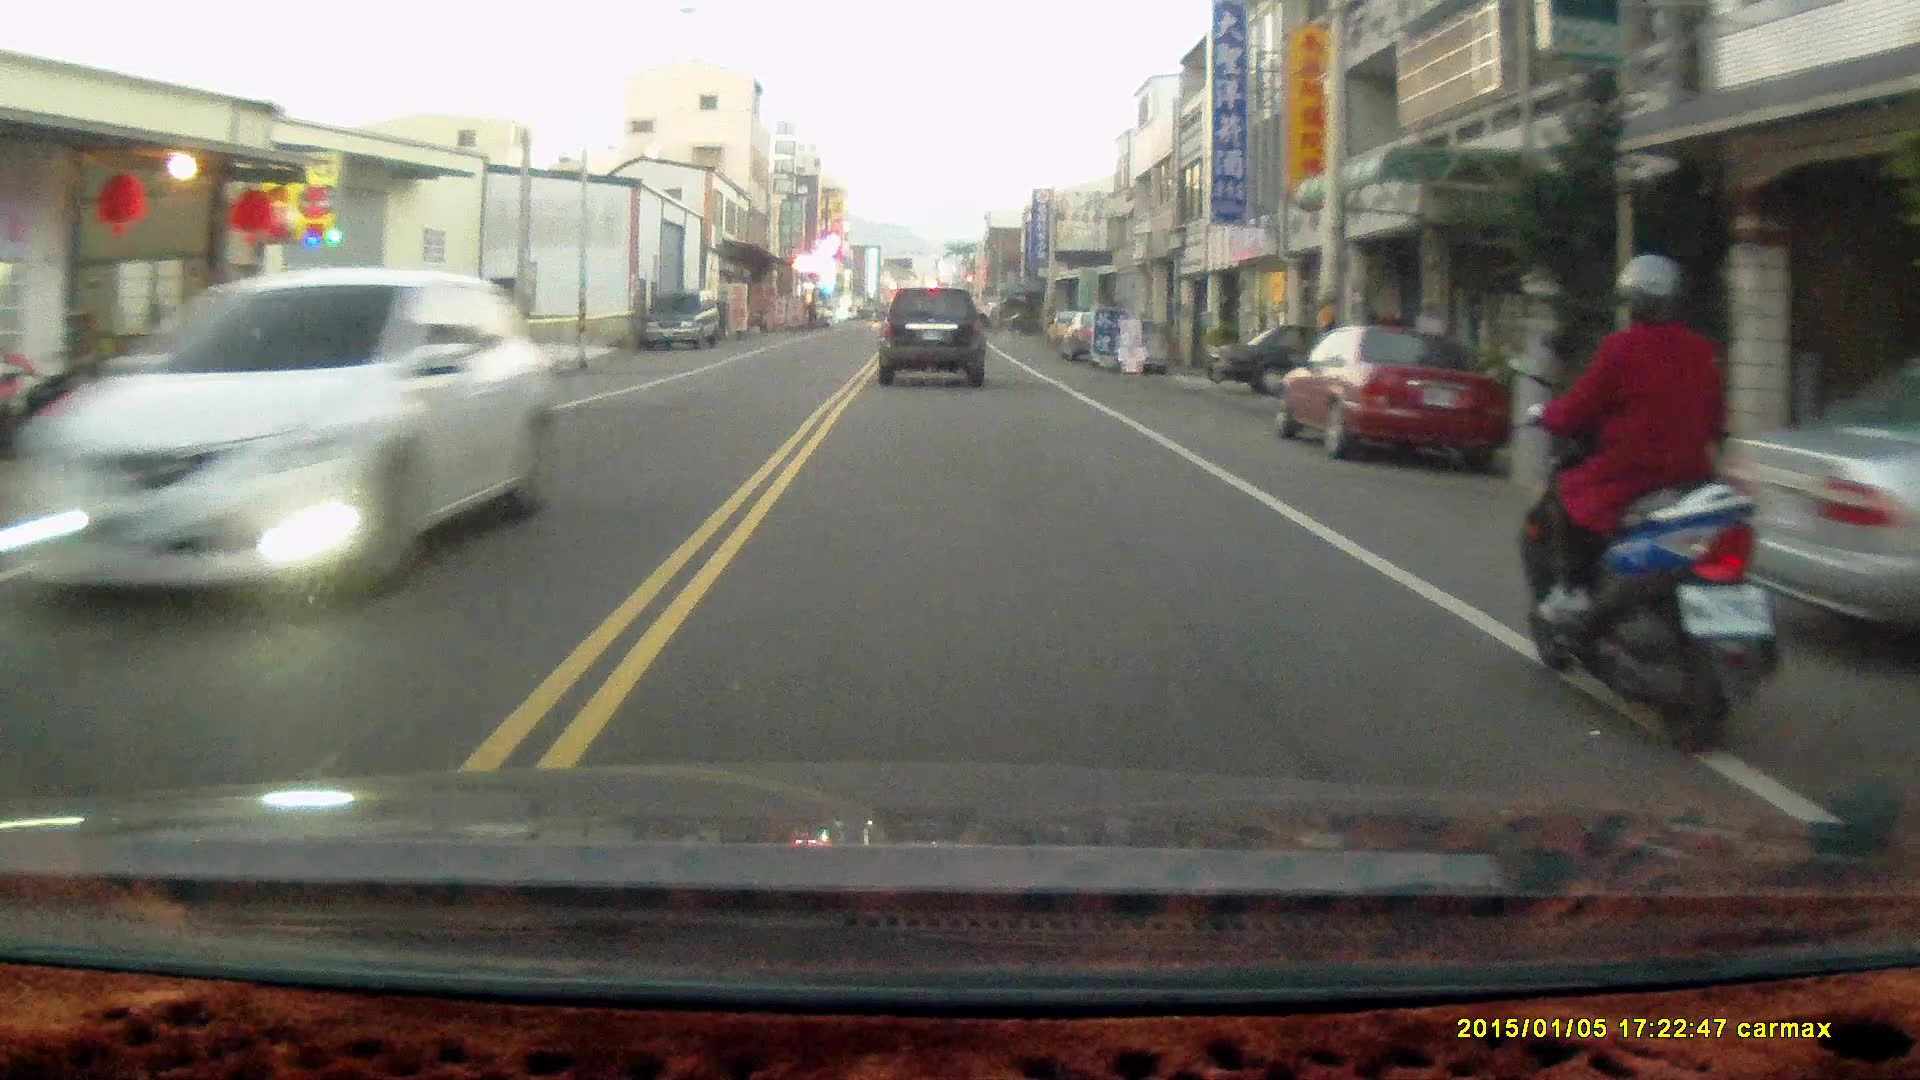rider: (1515, 242, 1791, 762)
vehicle: (14, 265, 562, 605), (1707, 340, 1920, 668), (1279, 313, 1513, 470), (1207, 323, 1417, 395), (880, 277, 989, 383), (645, 288, 723, 352)
